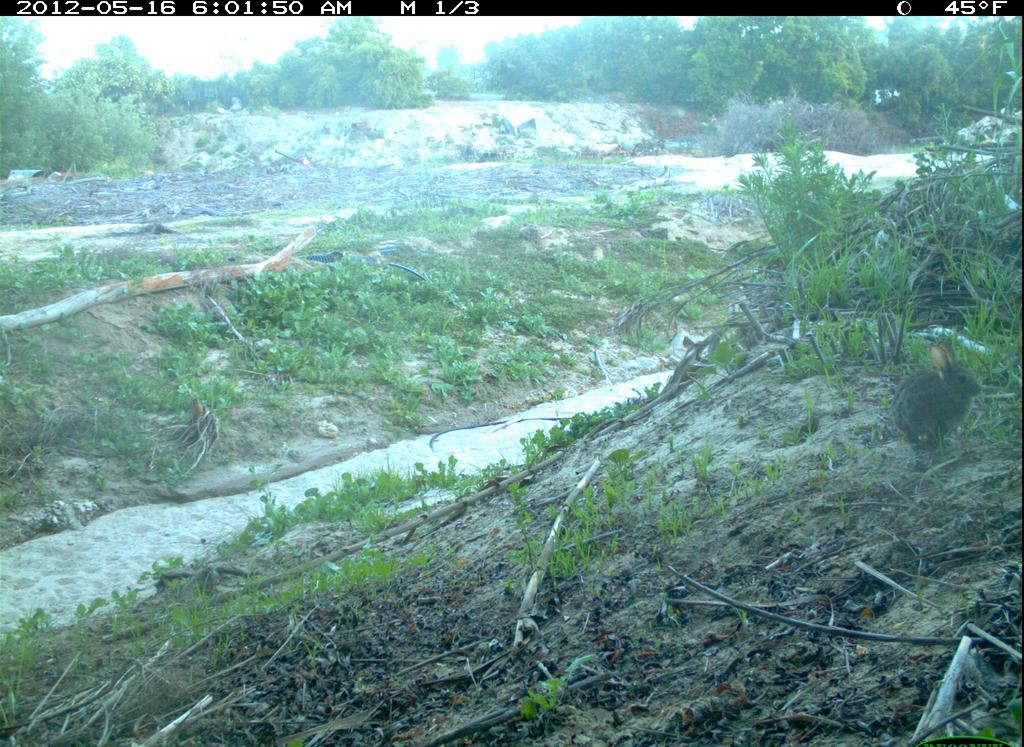rabbit: (881, 332, 989, 465)
